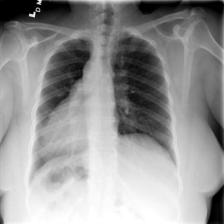normal: (26, 30, 181, 192)
